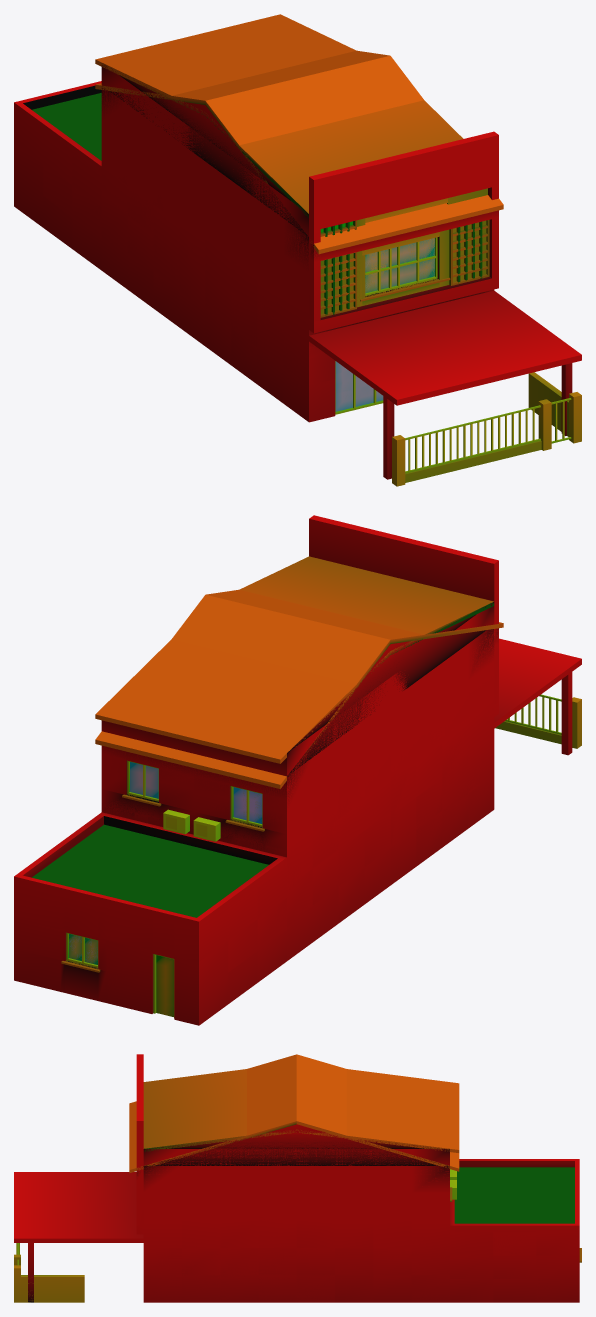
Rendered from link_long.glb.
3 views of the same model, one above another, from view 1: azimuth 30°, elevation 25°; view 2: azimuth 150°, elevation 25°; view 3: azimuth 270°, elevation 25° (orthographic). The views are drawn at different scales.
Visible parts, largest first — view 1: link_long__gable__LOD0, link_long__modern__LOD0; view 2: link_long__gable__LOD0, link_long__modern__LOD0; view 3: link_long__gable__LOD0, link_long__modern__LOD0.
Boxes of the visible parts, left/top/right/bottom form: link_long__gable__LOD0: left=14, top=50, right=581, bottom=486; link_long__modern__LOD0: left=15, top=14, right=498, bottom=421; link_long__gable__LOD0: left=14, top=589, right=581, bottom=1025; link_long__modern__LOD0: left=14, top=515, right=498, bottom=1024; link_long__gable__LOD0: left=14, top=1054, right=581, bottom=1302; link_long__modern__LOD0: left=136, top=1054, right=579, bottom=1302.
Size of what is drawn, in the model's own units: 6.7 by 8.5 by 24.1.
